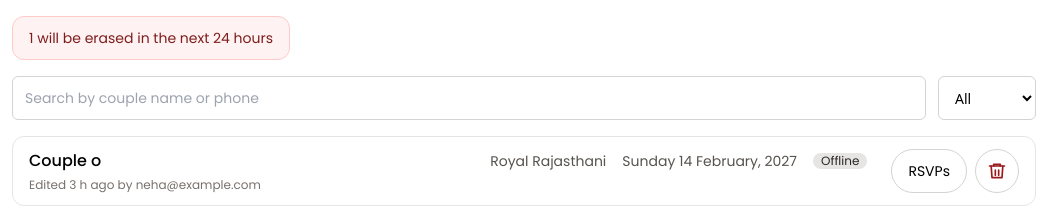
it: InvitationList › lifecycle › links the erase notice to Offline when only offline invitations are due
This screenshot has width=1048, height=223.
Click the button "1 will be erased in the next 24 hours".
click(151, 38)  # box [12,16,290,60]
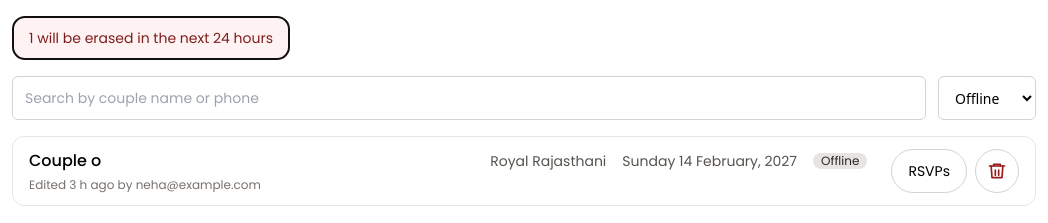
Now the dropdown named "Status" shows "Offline", box [938,76,1036,120]
